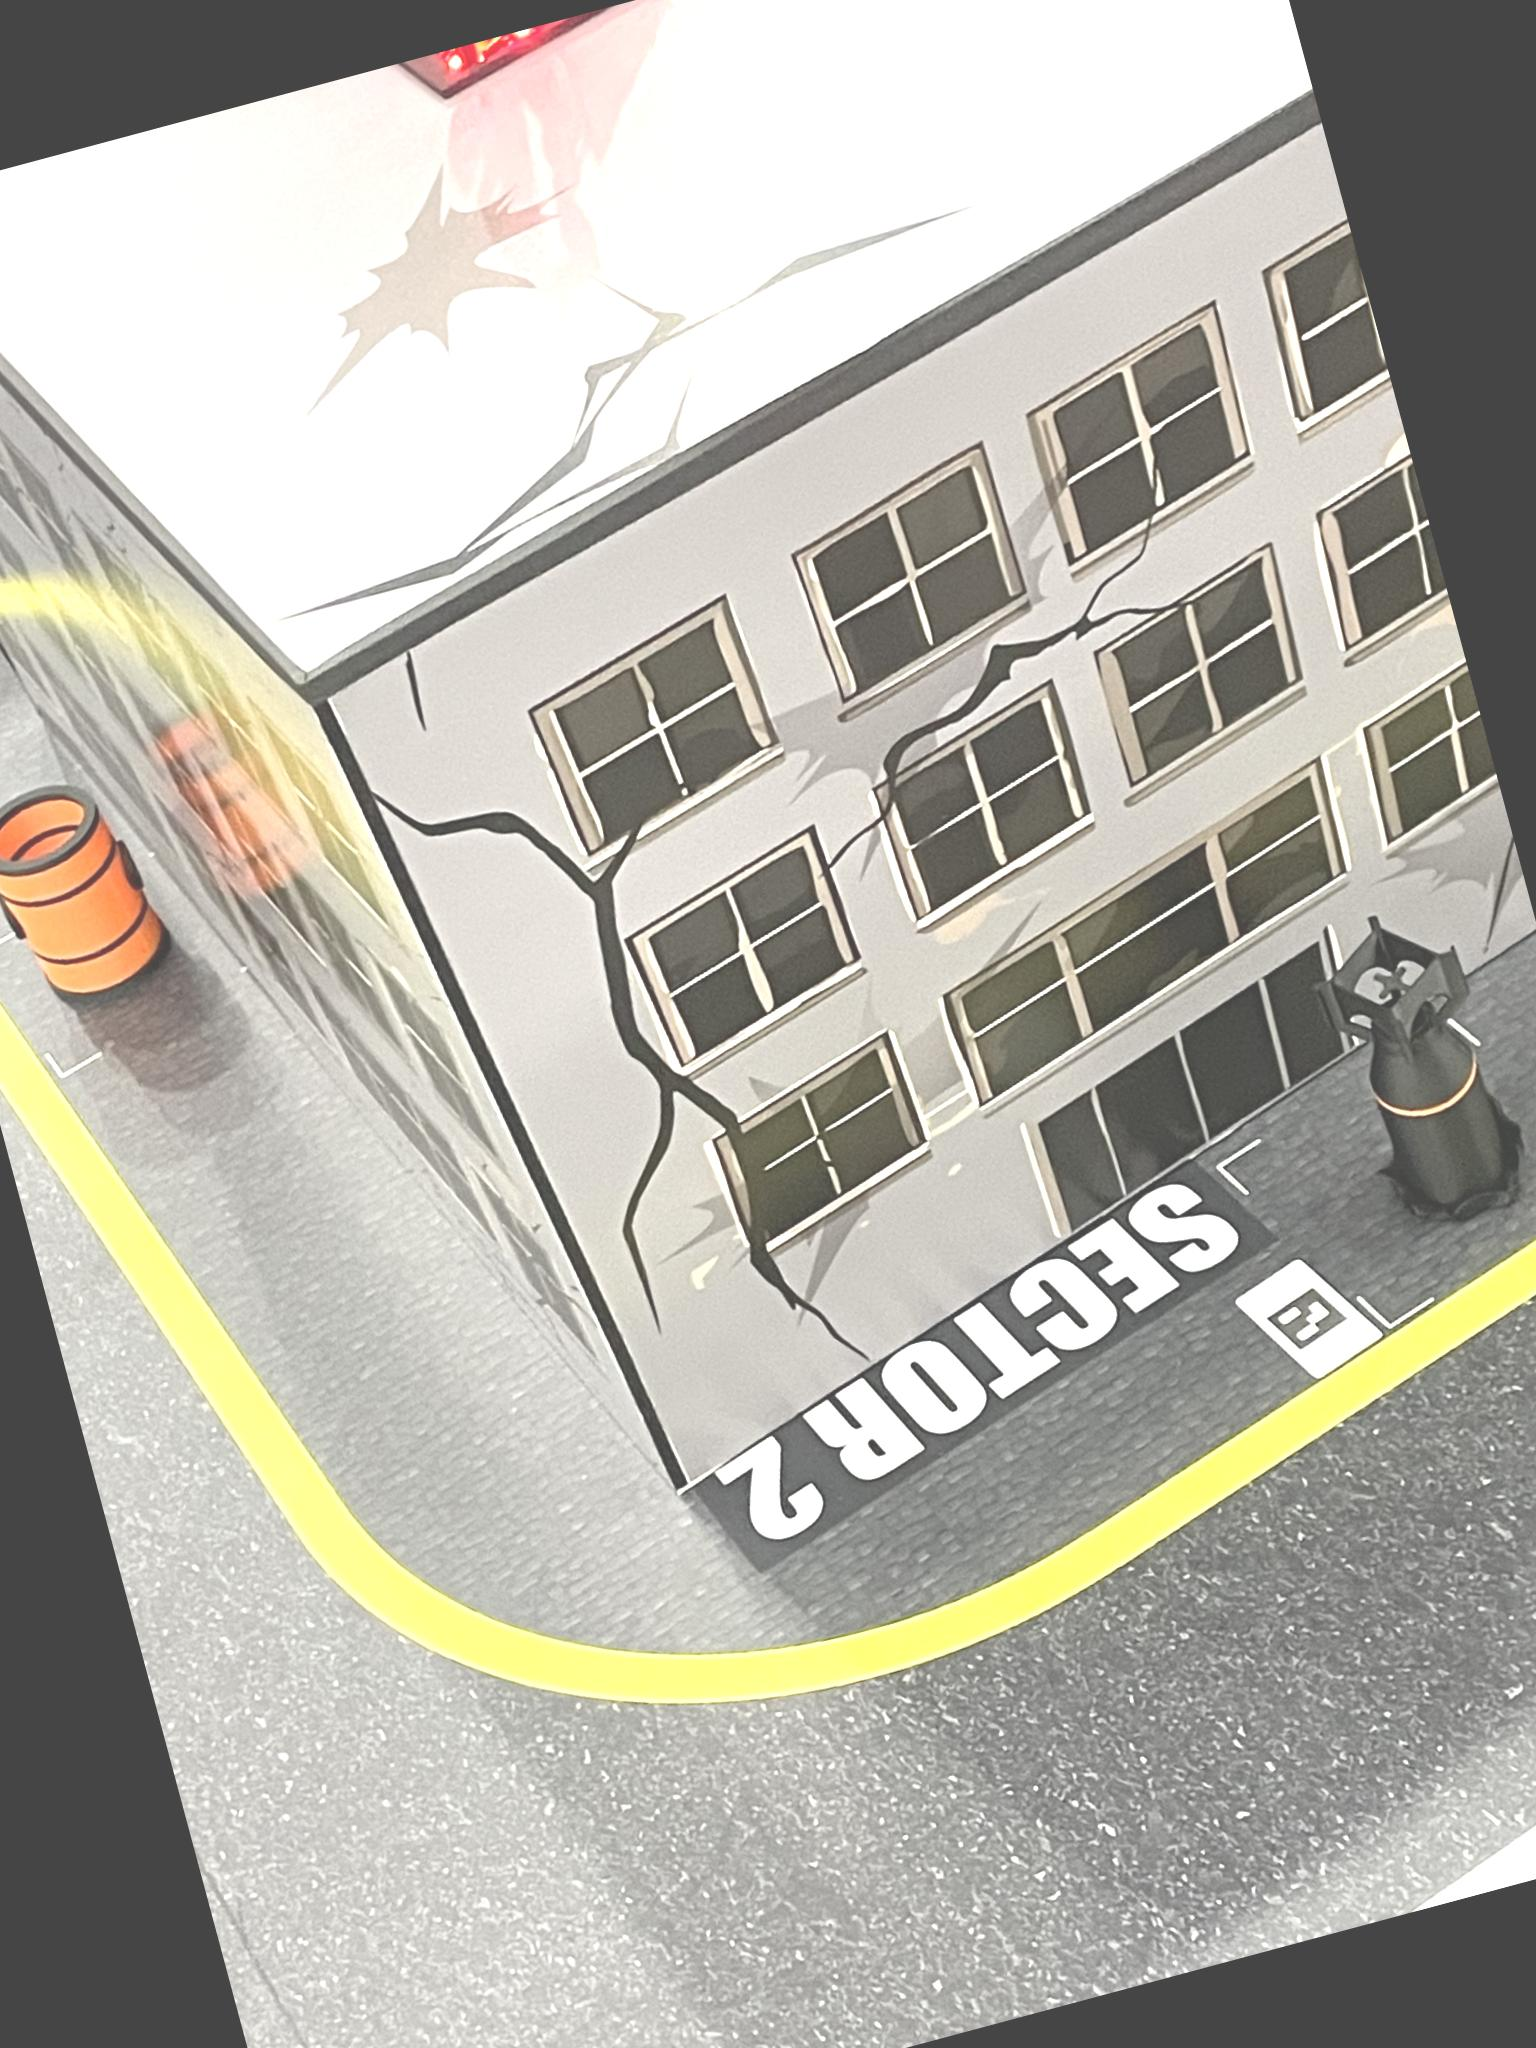Hazmat: (0, 756, 192, 1042)
Missile: (1305, 885, 1530, 1230)
